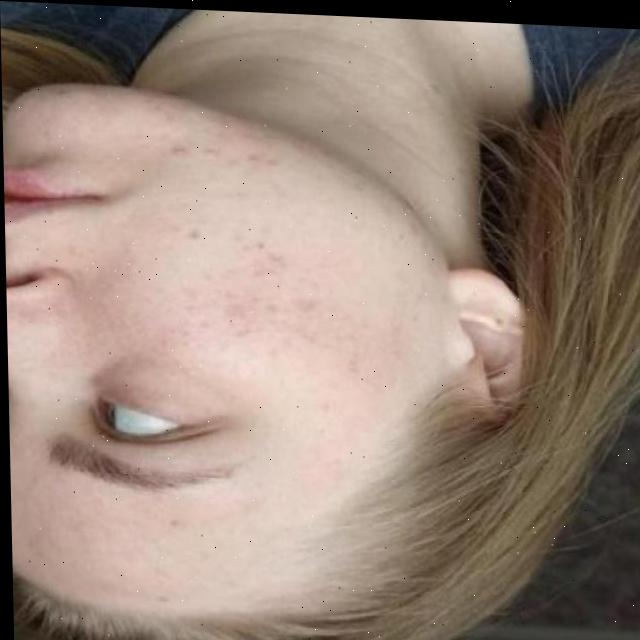Acne: (189, 177, 355, 388)
